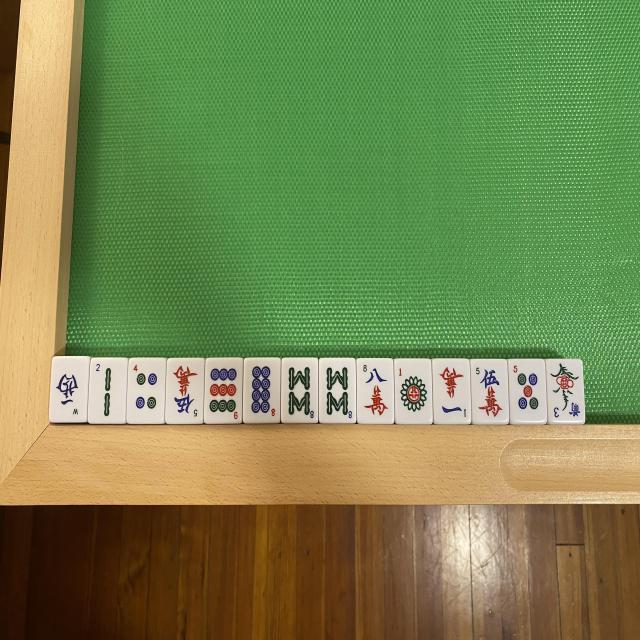bf3: (549, 360, 585, 423)
hww: (51, 358, 88, 422)
sb2: (92, 357, 128, 421)
sb8: (322, 359, 357, 422), (282, 358, 317, 421)
sc1: (432, 362, 468, 425)
sc5: (168, 358, 203, 426), (473, 361, 508, 423)
sc8: (357, 361, 393, 424)
sd1: (397, 361, 432, 423)
sd4: (126, 360, 164, 423)
sd5: (511, 360, 546, 422)
sd8: (248, 358, 282, 422)
sd9: (207, 358, 243, 421)
